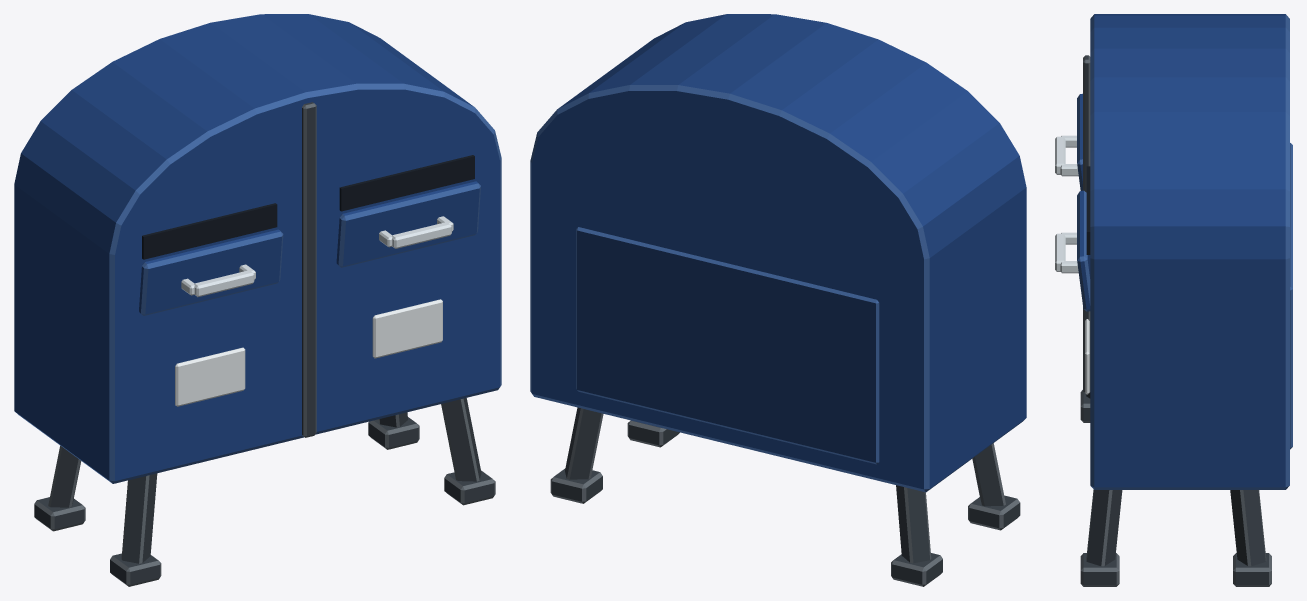
The model's file is mailbox_double_chute.fbx.
The picture shows the model from 3 angles, left to right: view 1: azimuth 30°, elevation 25°; view 2: azimuth 150°, elevation 25°; view 3: azimuth 270°, elevation 25°; orthographic projection.
Parts seen in each view (by area): view 1: Mailbox_Double; view 2: Mailbox_Double; view 3: Mailbox_Double.
Boxes of the visible parts, bbox=[...] form: Mailbox_Double: bbox=[14, 14, 501, 586]; Mailbox_Double: bbox=[530, 14, 1026, 586]; Mailbox_Double: bbox=[1055, 14, 1292, 586].
Size of the model in its own units: 460 by 500 by 240.
